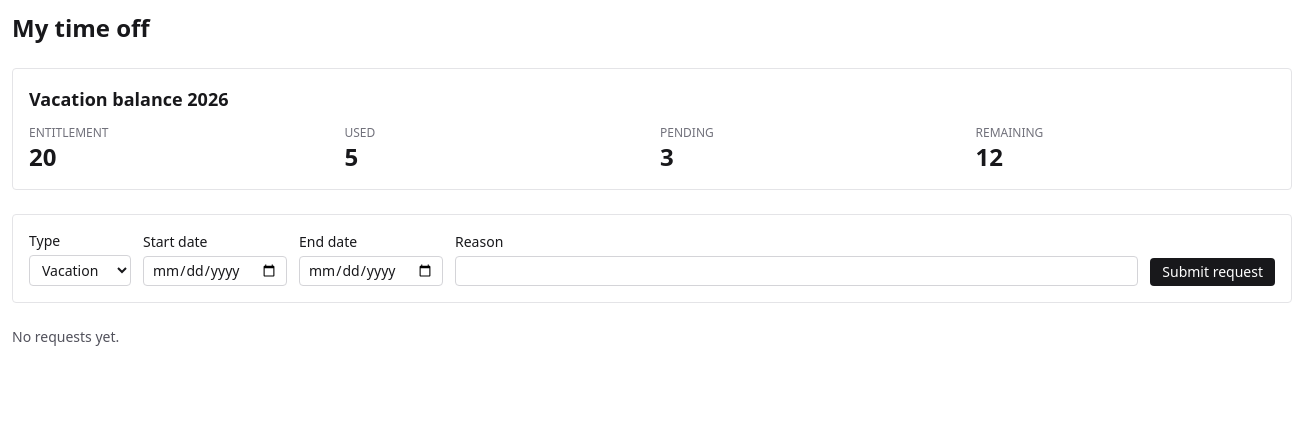
new request form (T4) › 409 shows the detail and keeps entered values (R13)
The width and height of the screenshot is (1292, 425).
expect the text "No requests yet." is shown: met, box x1=12 y1=327 x2=119 y2=346
Type "2026-11-02" into the date field labelled "Start date" at (215, 271), box x1=143 y1=256 x2=287 y2=286
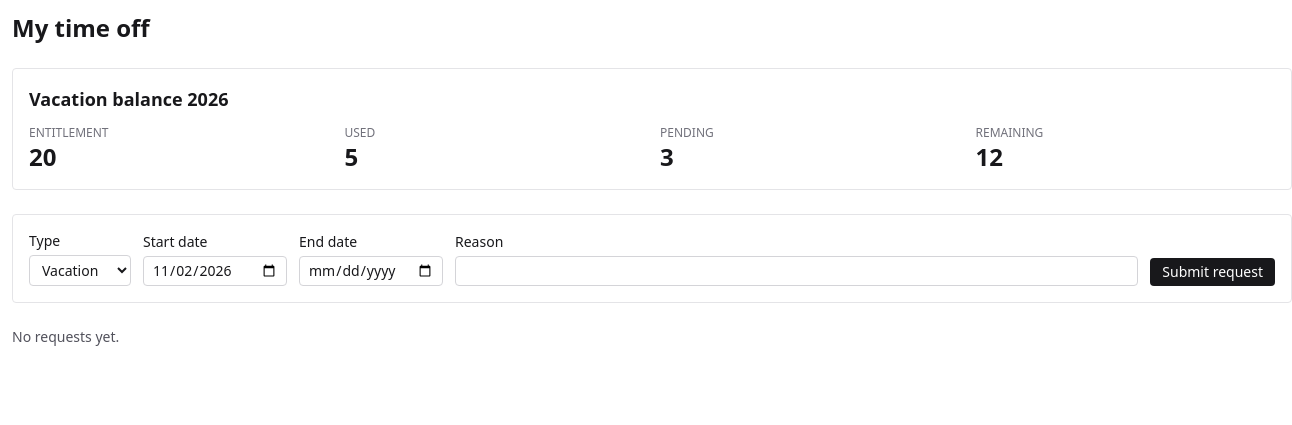
Type "2026-11-18" into the date field labelled "End date" at (371, 271), box x1=299 y1=256 x2=443 y2=286
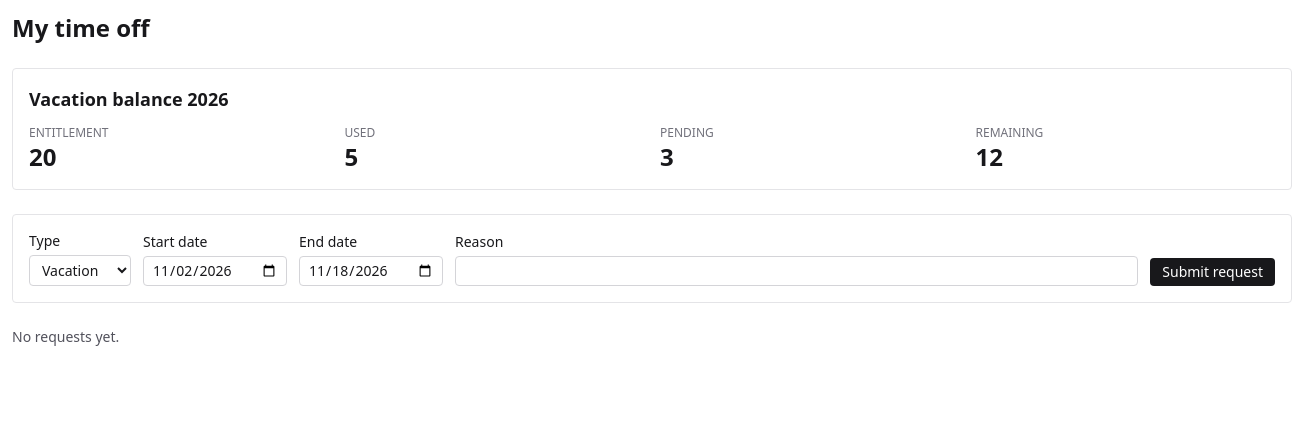
Type "Trip" into the field labelled "Reason" at (797, 271), box x1=455 y1=256 x2=1138 y2=286
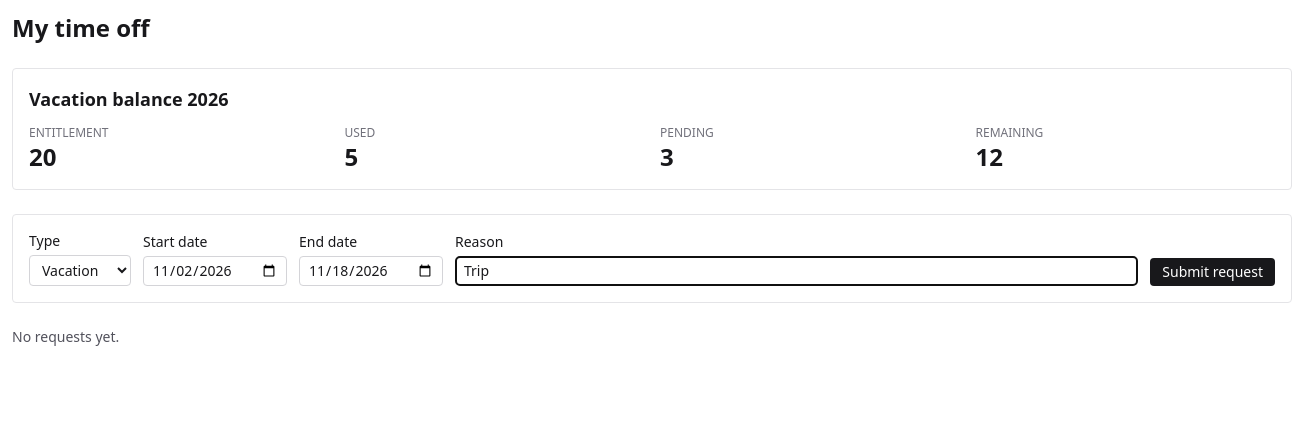
Click the button "Submit request" at (1213, 272), box x1=1150 y1=258 x2=1275 y2=286
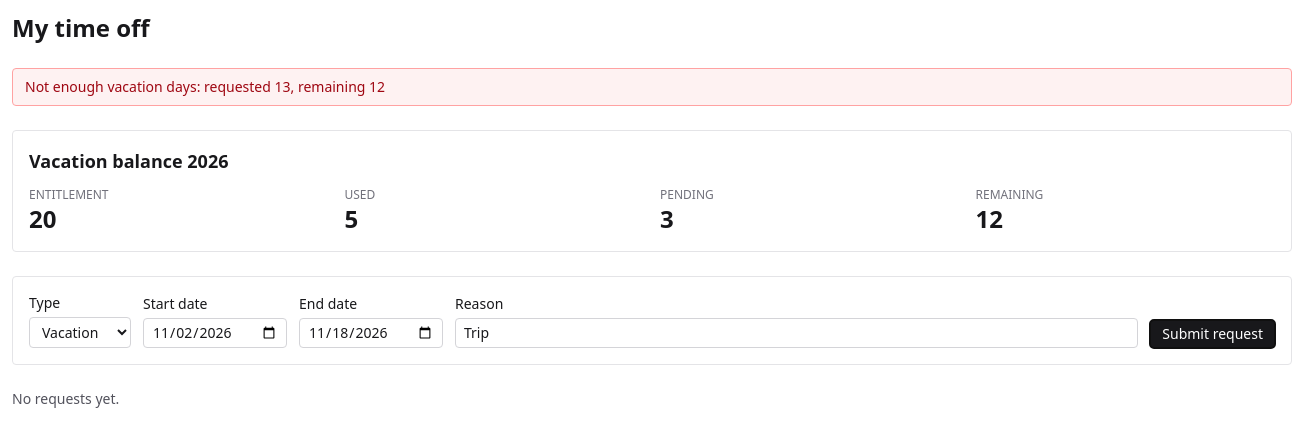
expect the message reads "Not enough vacation days: requested 13, remaining 12": met, box x1=25 y1=77 x2=385 y2=96
